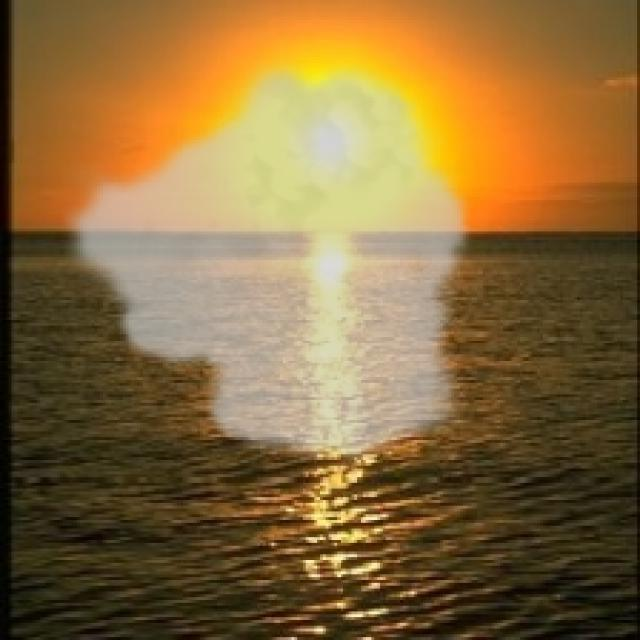smoke: (57, 51, 474, 466)
